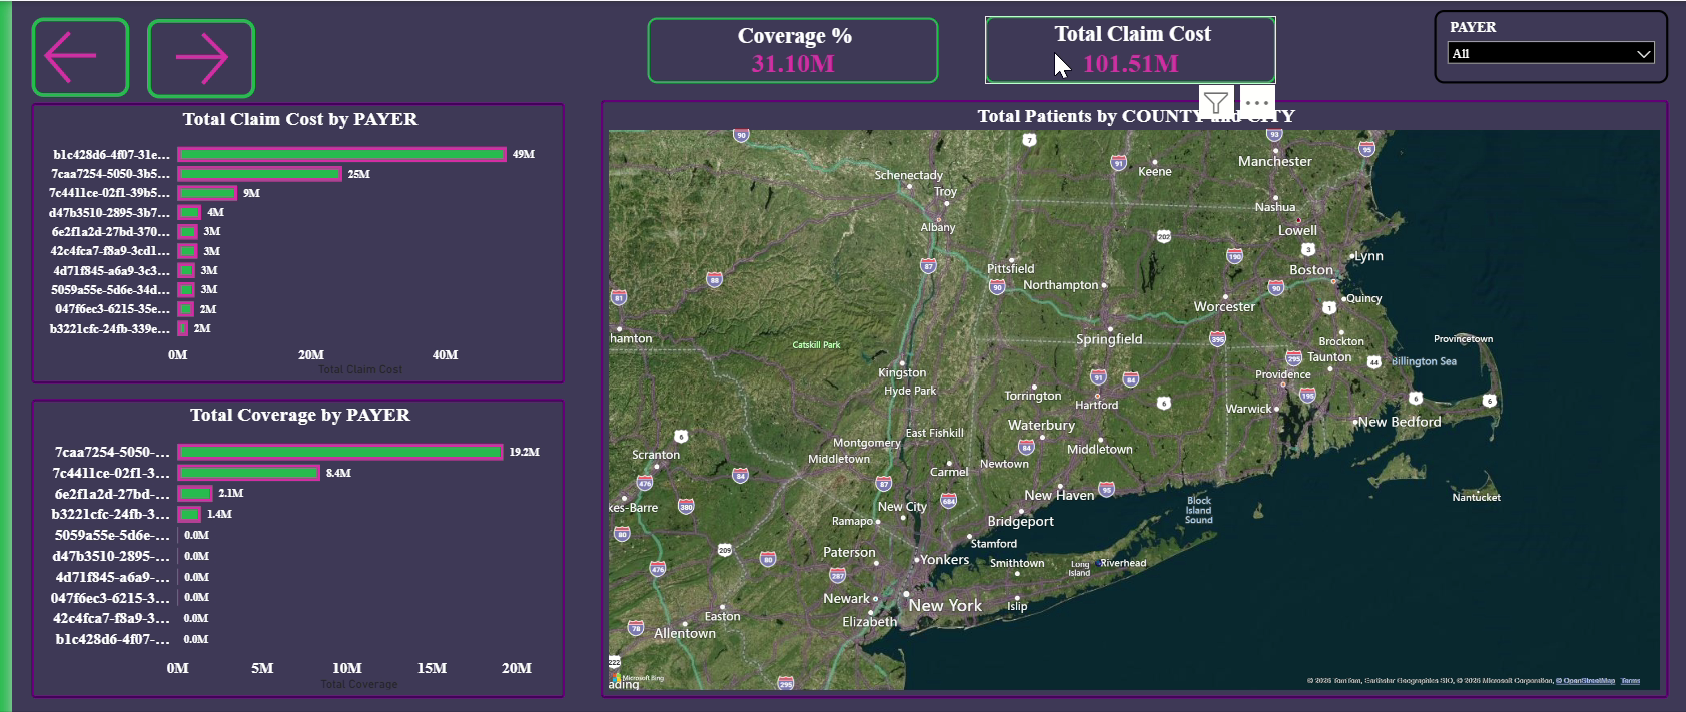

The dashboard page shown, as its layout file describes it:
{"tool":"powerbi","page":{"name":"Page 2","canvas":[2500,1600],"ordinal":1},"visuals":[{"type":"clusteredBarChart","fields":{"Y":["All KPI measures.Total Claim Cost"],"Category":["encounters.PAYER"]},"box":[24.1,125.9,657.4,346.3],"z":0},{"type":"clusteredBarChart","fields":{"Category":["encounters.PAYER"],"Y":["All KPI measures.Total Coverage"]},"box":[24.1,490.7,657.4,368.5],"z":1000},{"type":"map","fields":{"Category":["patients.COUNTY"],"Series":["patients.CITY"],"Size":["All KPI measures.Total Patients"]},"box":[725.9,122.2,1316.7,737],"z":2000},{"type":"slicer","fields":{"Values":["encounters.PAYER"]},"box":[1753.7,11.1,288.9,90.7],"z":3000},{"type":"card","title":"Total Claim Cost ","fields":{"Values":["All KPI measures.Total Claim Cost"]},"box":[1200.6,19.1,359.3,83.3],"z":4000},{"type":"card","title":"Coverage %","fields":{"Values":["All KPI measures.Total Coverage"]},"box":[784,21,359.3,81.5],"z":5000},{"type":"actionButton","box":[166.7,22.2,133.3,98.1],"z":6000},{"type":"actionButton","box":[24.1,20.4,120.4,98.1],"z":7000}]}

Visuals, with their boxes on the page's 2500x1600 design canvas (x1, y1, x2, y2). These are canvas units, not pixel positions in the 1686x712 screenshot, which may show the page scaled, cropped or inside an application window:
clusteredBarChart - All KPI measures.Total Claim Cost x encounters.PAYER: Rect(24, 126, 682, 472)
clusteredBarChart - encounters.PAYER x All KPI measures.Total Coverage: Rect(24, 491, 682, 859)
map - patients.COUNTY x patients.CITY: Rect(726, 122, 2043, 859)
slicer - encounters.PAYER: Rect(1754, 11, 2043, 102)
"Total Claim Cost " card: Rect(1201, 19, 1560, 102)
"Coverage %" card: Rect(784, 21, 1143, 102)
actionButton: Rect(167, 22, 300, 120)
actionButton: Rect(24, 20, 144, 118)
